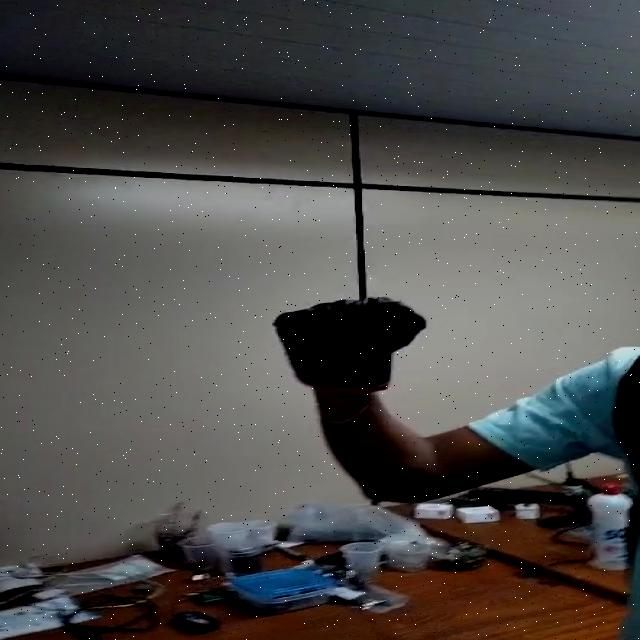Gloves: (272, 298, 424, 392)
